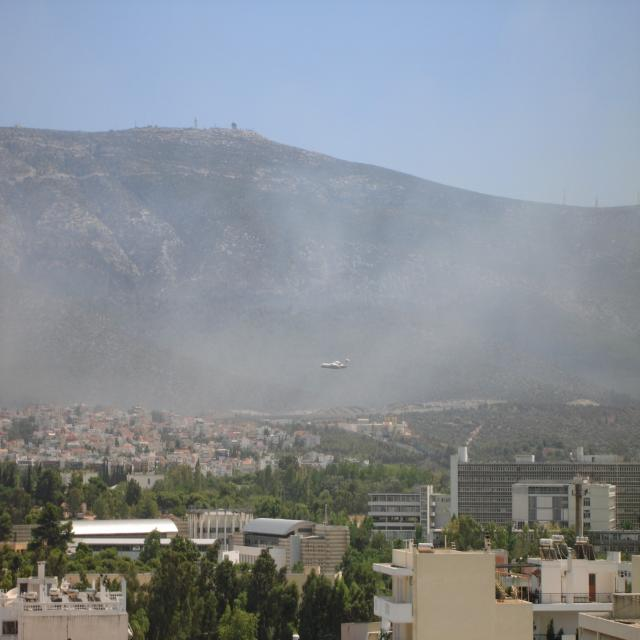MIL_Plane: (64, 102, 95, 113)
